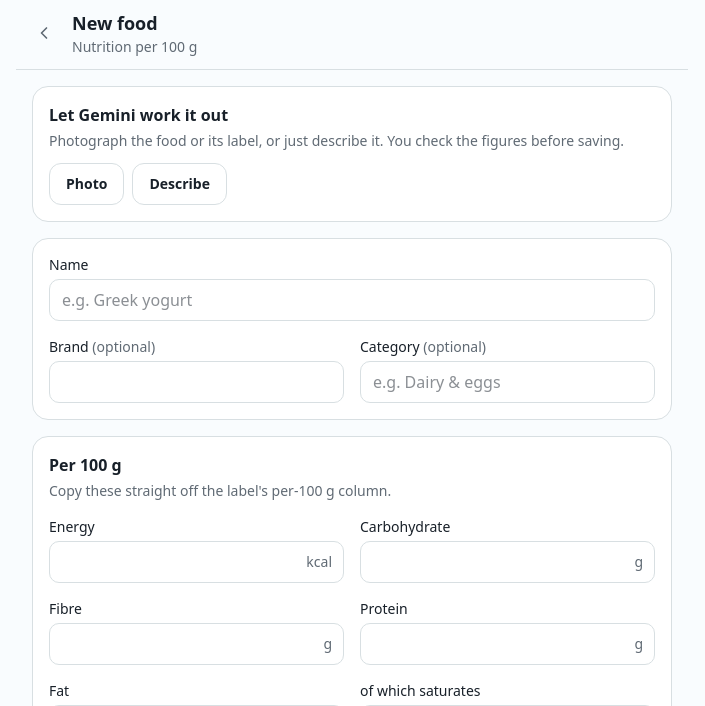
FoodEditPage — new food › warns when the calories do not match the macros
Type "1000" into the number field labelled "Energy". click: [196, 562]
box: top-left (49, 541), bottom-right (344, 583)
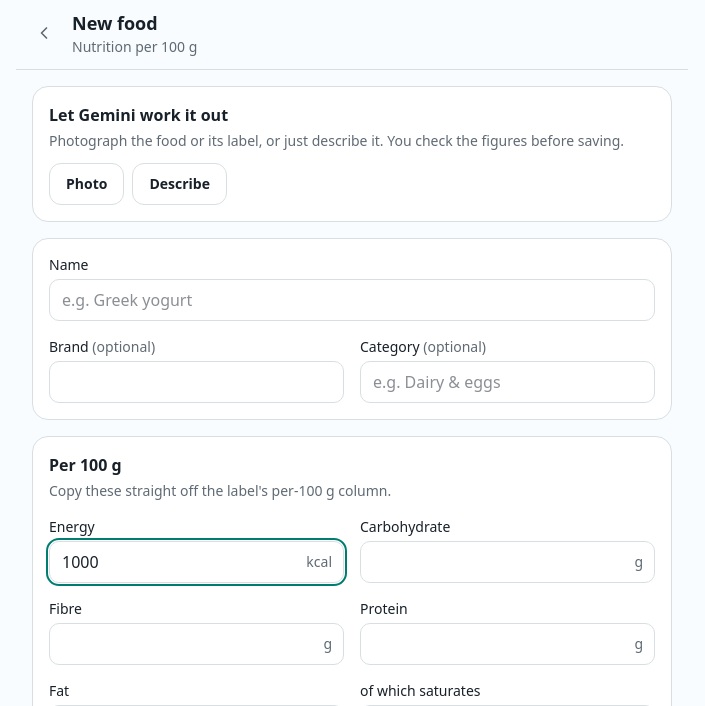
Type "10" into the number field labelled "Carbohydrate". click: [508, 562]
box: top-left (360, 541), bottom-right (655, 583)
(page scrolled)
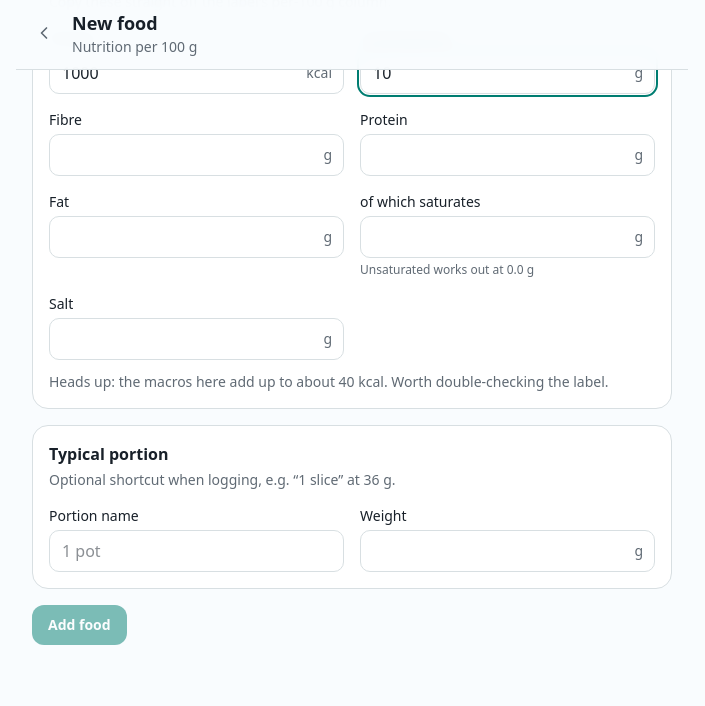
Now the text "macros here add up to about 40 kcal" is shown, box top-left (49, 372), bottom-right (655, 392)
